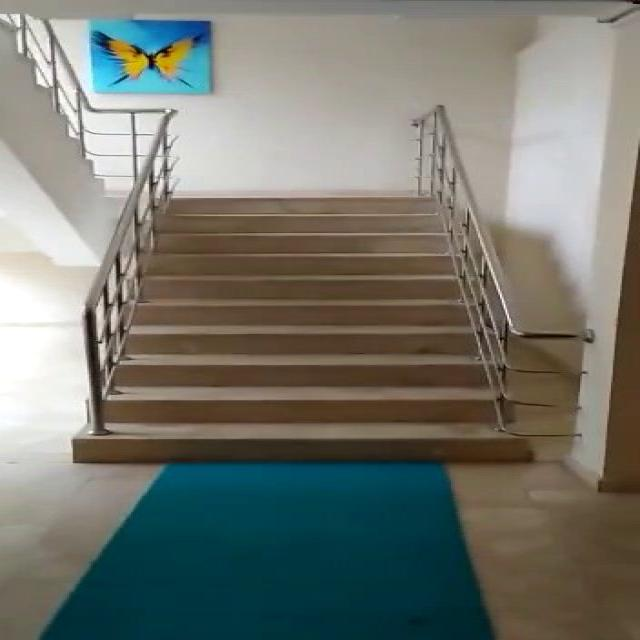upstair: (86, 193, 541, 468)
